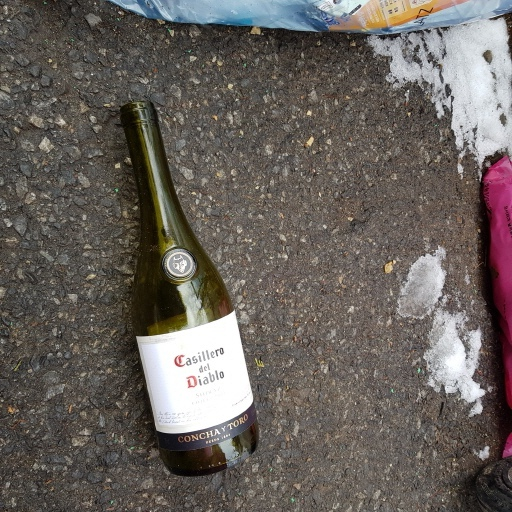Glass_2: (118, 98, 260, 477)
